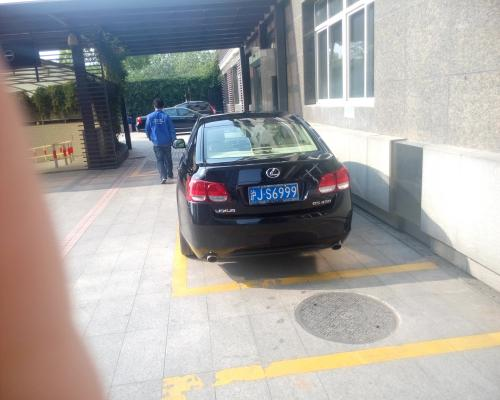Carplate: (241, 180, 304, 208)
